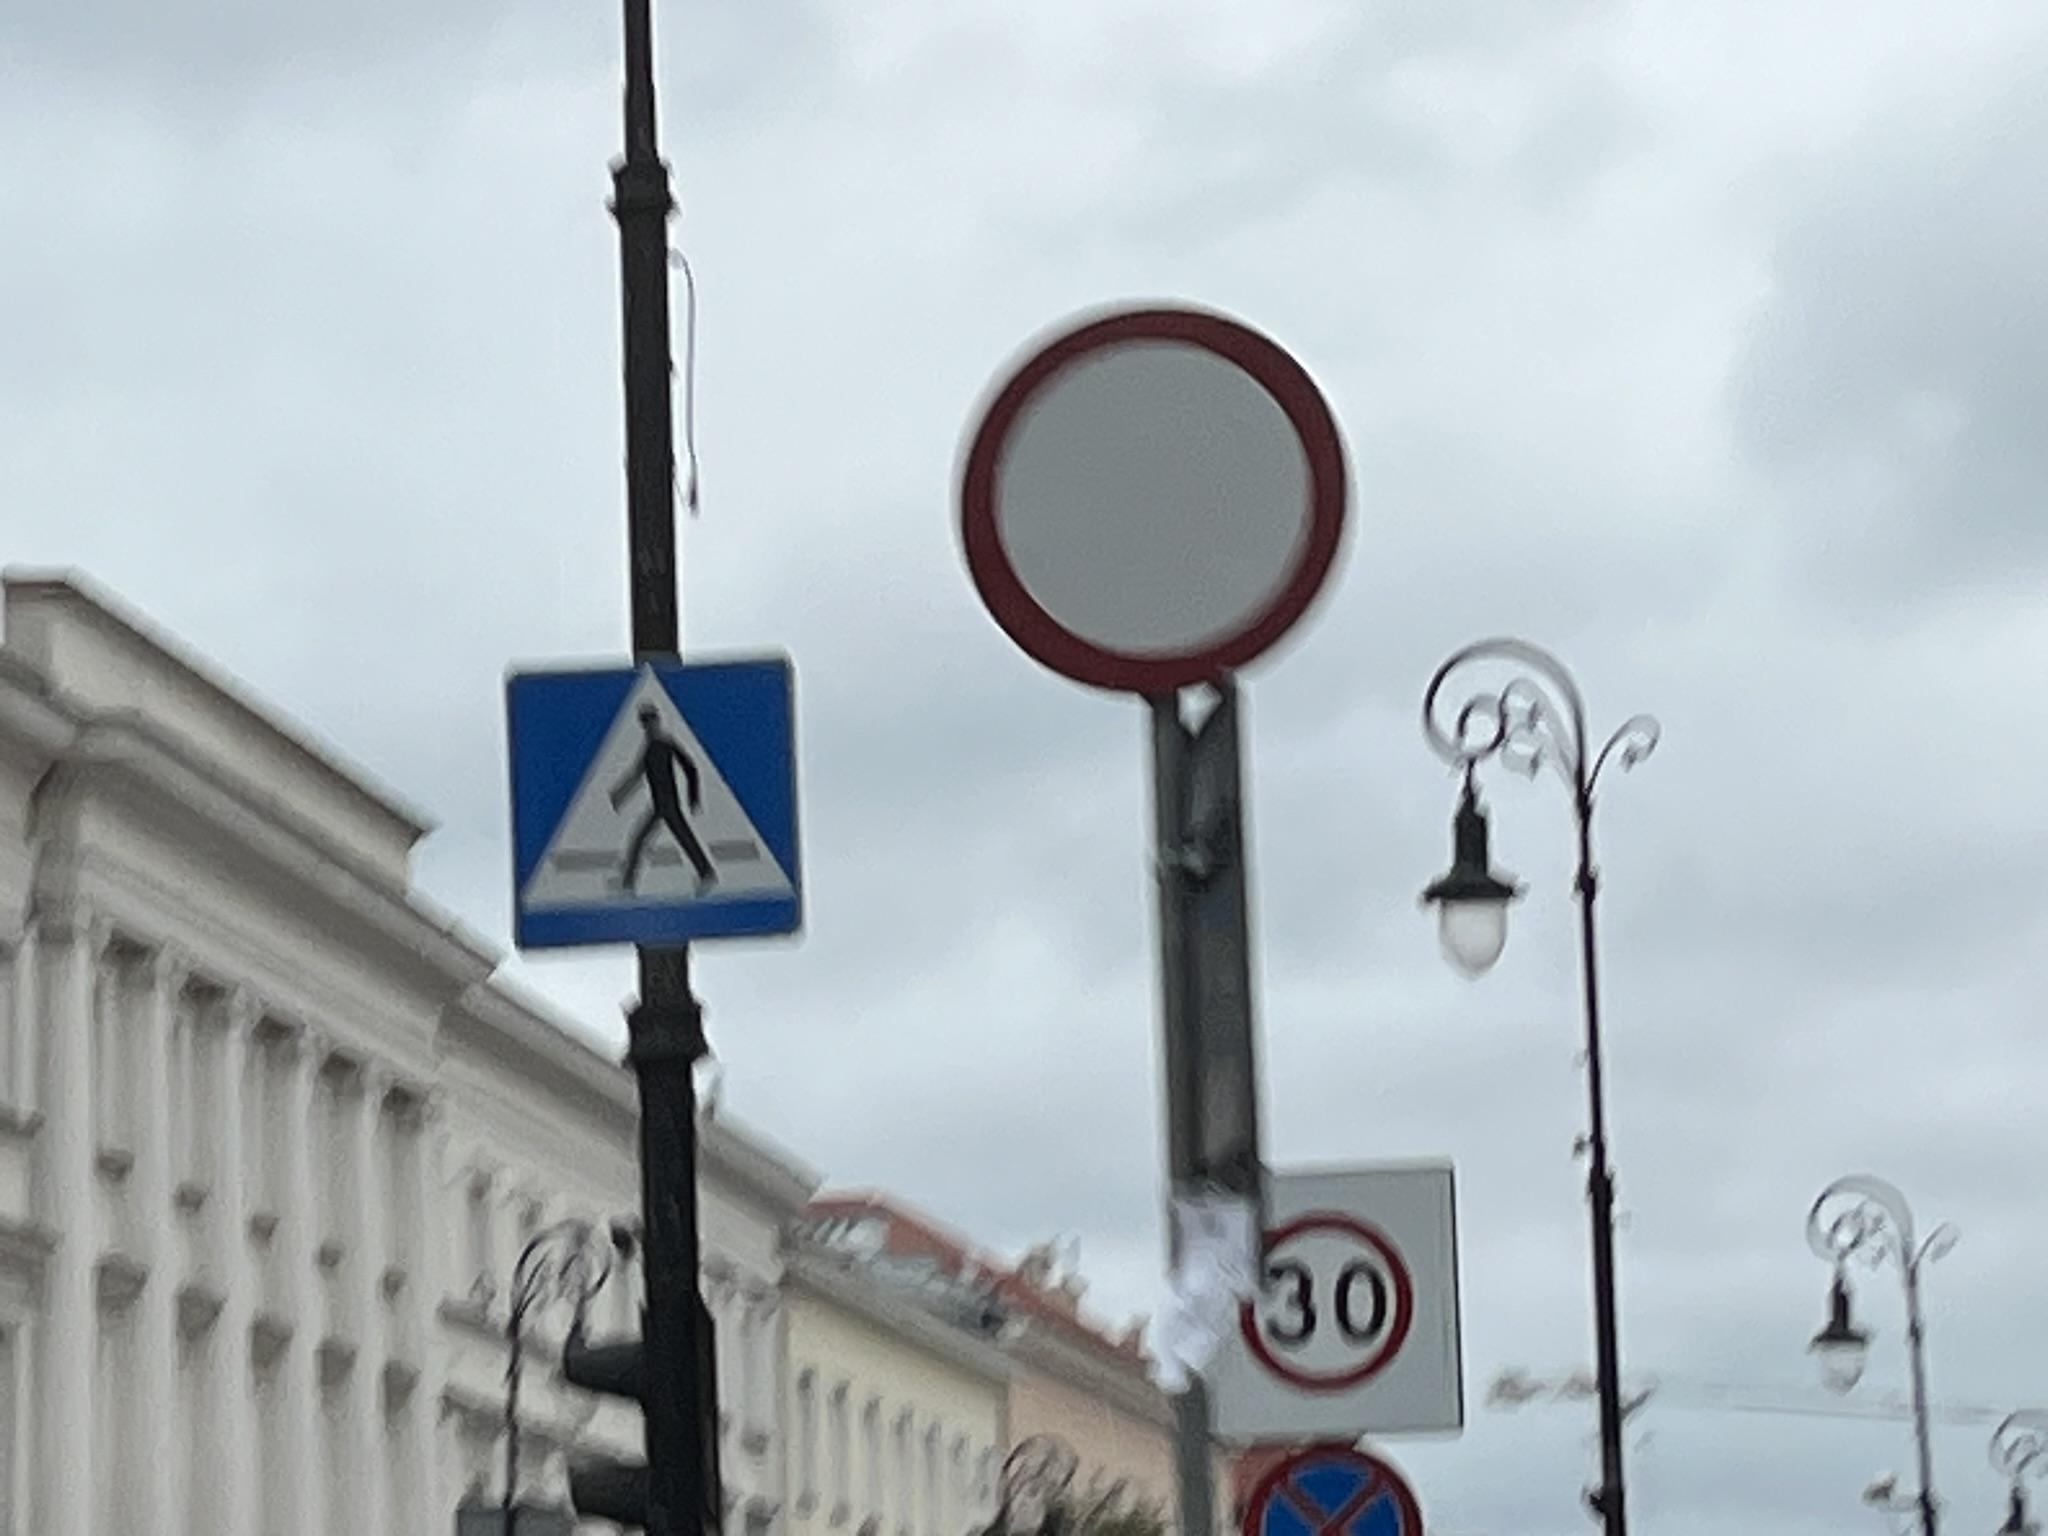information: (498, 652, 810, 957)
prohibitory: (948, 294, 1367, 700), (1232, 1205, 1421, 1396), (1240, 1438, 1429, 1536)
